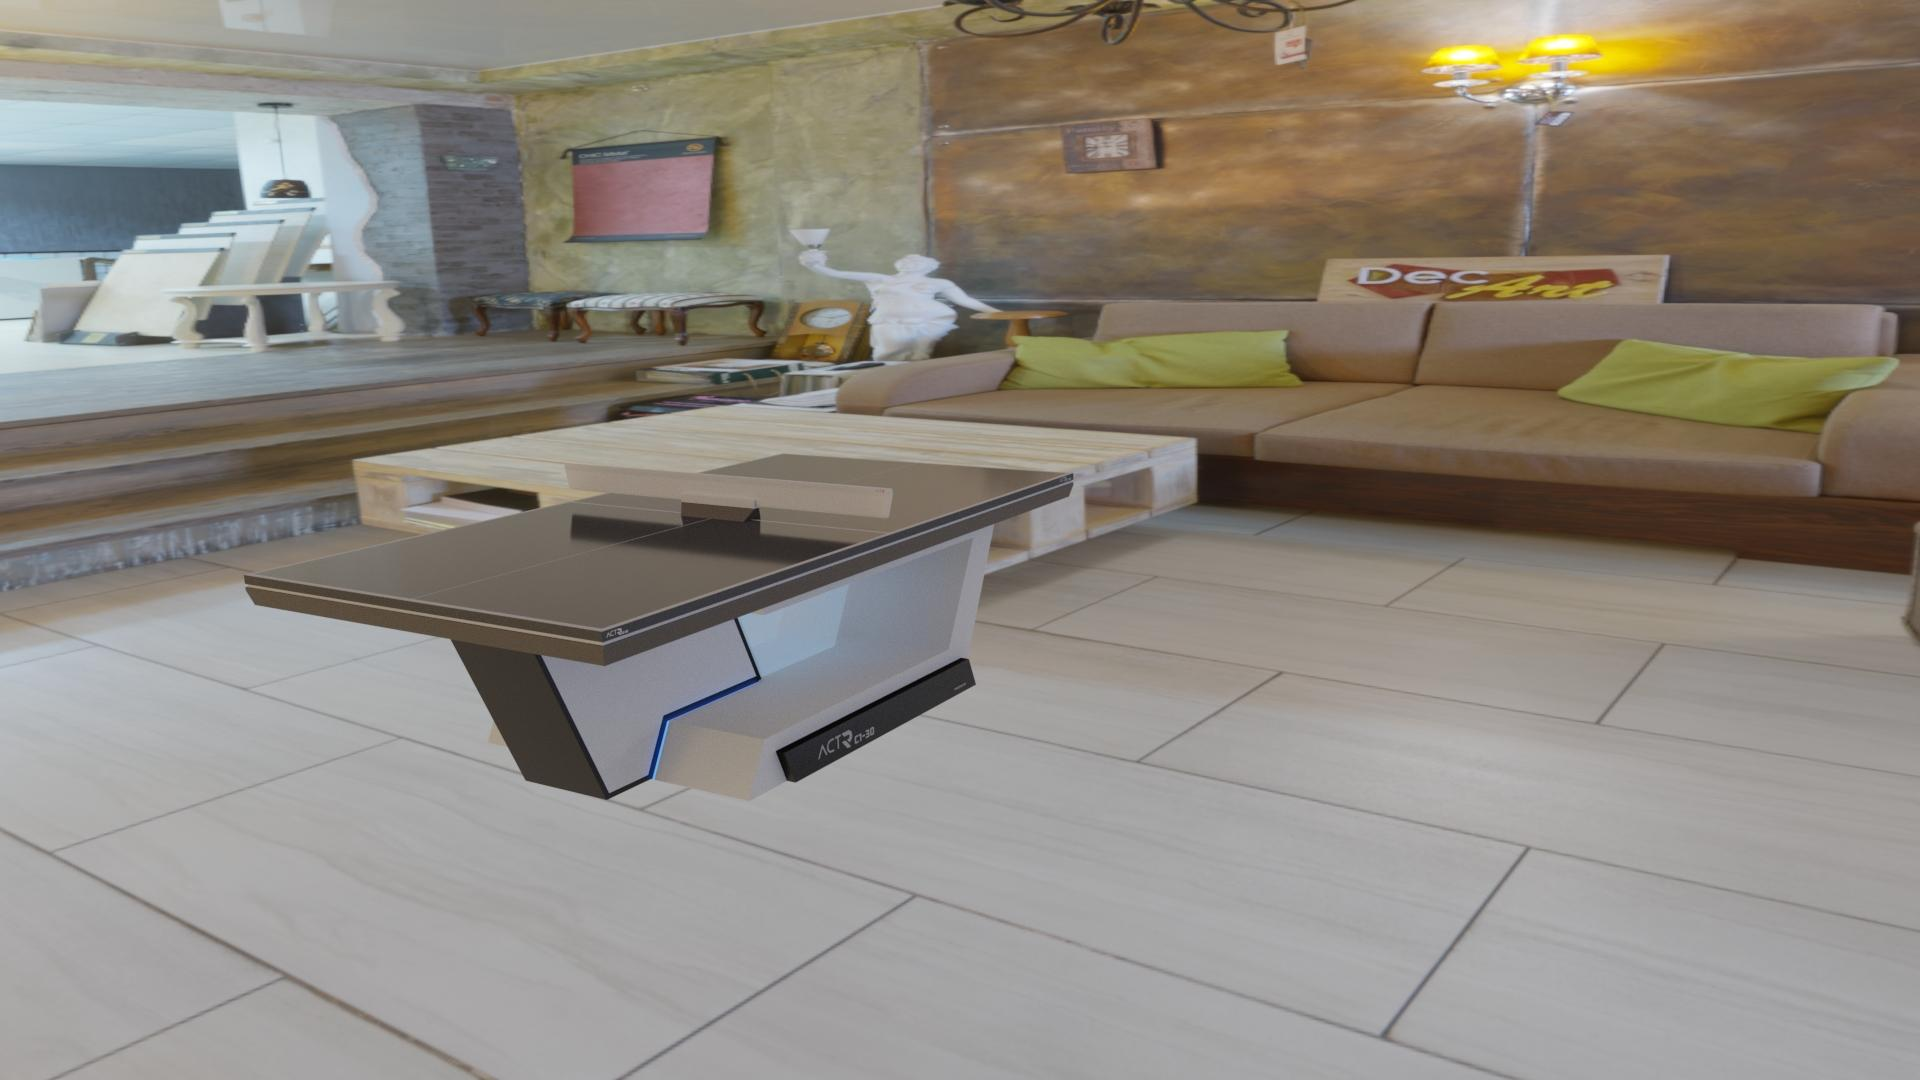table: (253, 454, 1067, 629)
